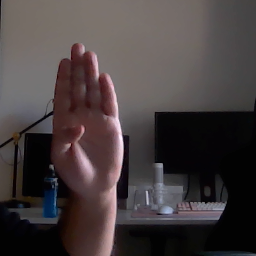B: (51, 40, 125, 190)
